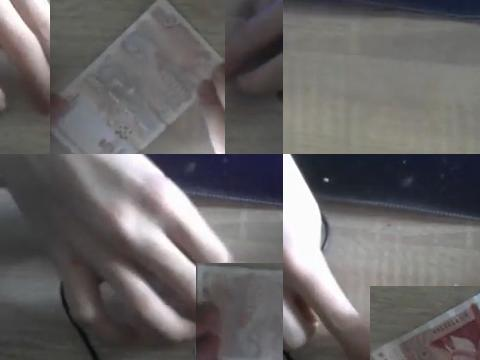5leva: (50, 0, 225, 154), (196, 263, 283, 360), (370, 292, 480, 360)
